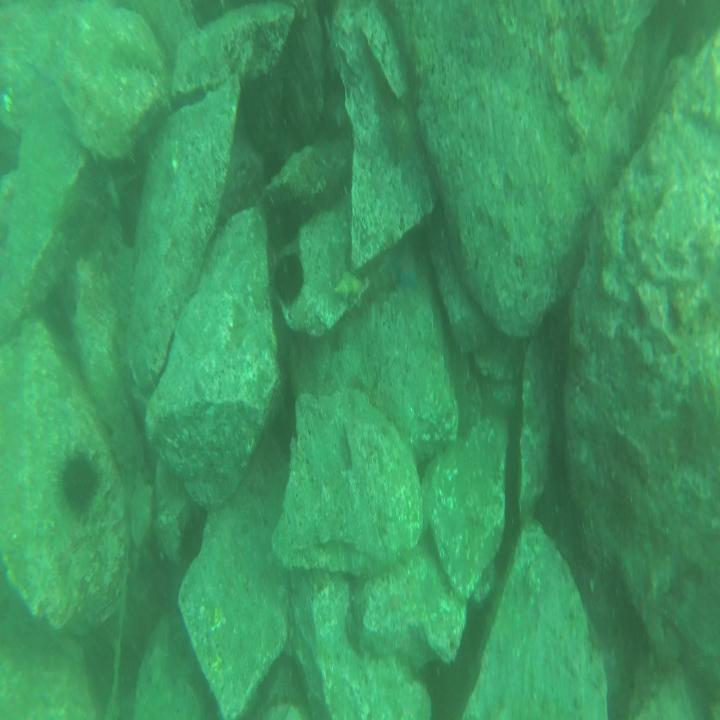echinus: (52, 451, 105, 518), (380, 99, 426, 167), (272, 248, 306, 303), (176, 507, 205, 566)
starfish: (391, 243, 422, 297)
